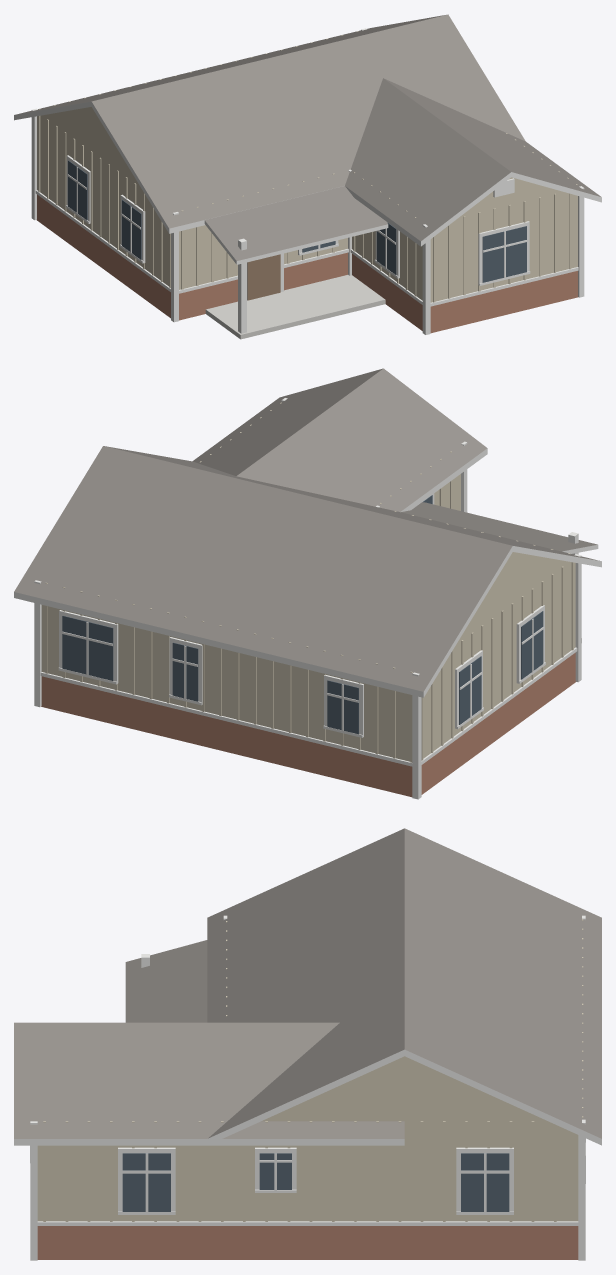
Rendered from olive-craftsman.glb.
The picture shows the model from 3 angles, top to bottom: view 1: azimuth 30°, elevation 25°; view 2: azimuth 150°, elevation 25°; view 3: azimuth 270°, elevation 25°; orthographic projection. The views are drawn at different scales.
Visible parts, largest first — view 1: The Olive (craftsman); view 2: The Olive (craftsman); view 3: The Olive (craftsman).
Boxes of the visible parts, <box> form: The Olive (craftsman): <box>14,14,601,339</box>; The Olive (craftsman): <box>14,368,601,799</box>; The Olive (craftsman): <box>14,828,601,1260</box>.
Bounding box in the file's own units: 9.9 × 4.57 × 11.12.
